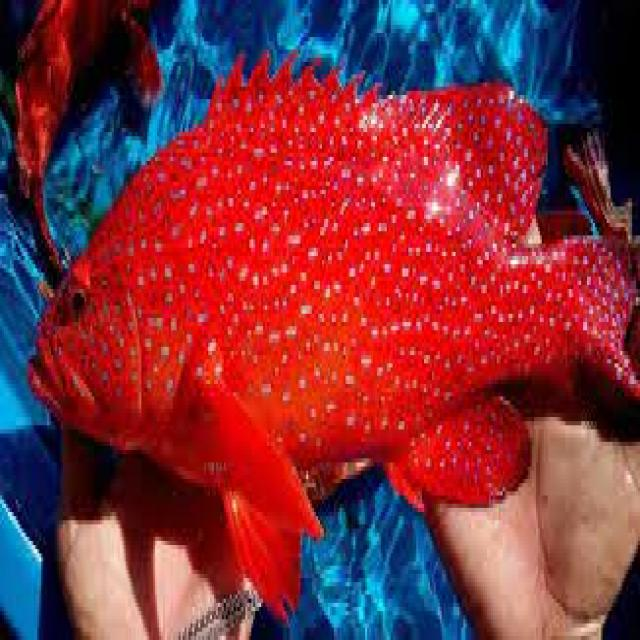Plectropomus-leopardus: (19, 41, 640, 556)
